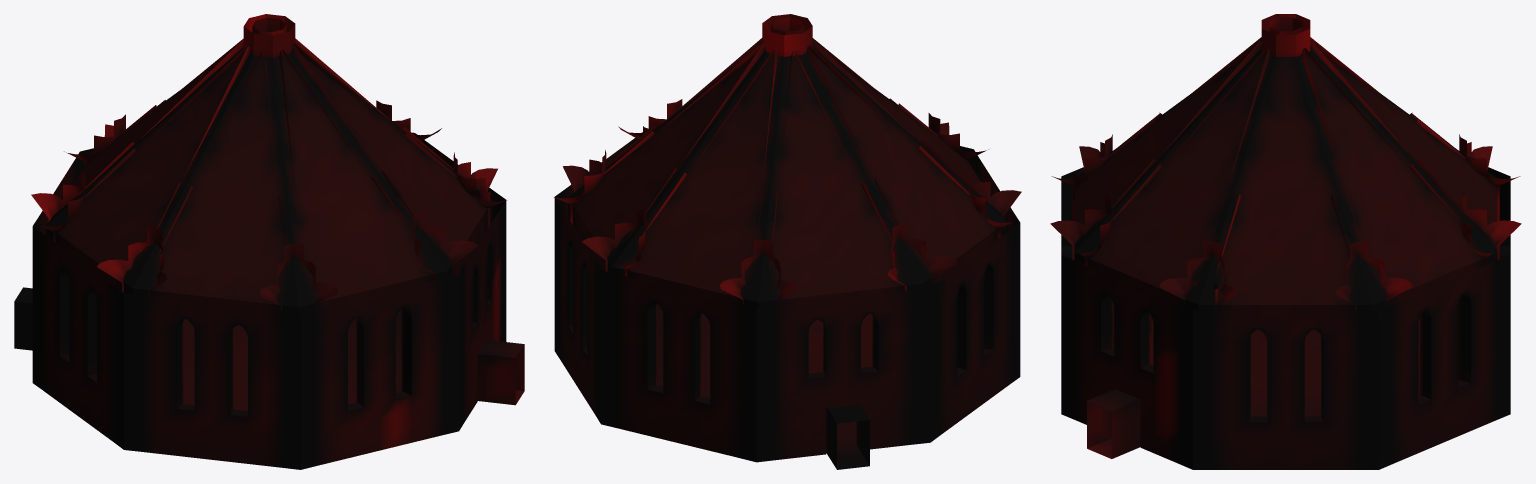
Rendered from castle_sanctum.obj.
The picture shows the model from 3 angles, left to right: view 1: azimuth 30°, elevation 25°; view 2: azimuth 150°, elevation 25°; view 3: azimuth 270°, elevation 25°; orthographic projection. The views are drawn at different scales.
Parts seen in each view (by area): view 1: SanctumRoof, SanctumOuterWall, SanctumSupports, SanctumBrickWall, SanctumFloor, SanctumWindows; view 2: SanctumRoof, SanctumOuterWall, SanctumSupports, SanctumBrickWall, SanctumFloor; view 3: SanctumRoof, SanctumOuterWall, SanctumSupports, SanctumBrickWall, SanctumFloor, SanctumWindows.
Boxes of the visible parts, bbox=[...] form: SanctumRoof: bbox=[46, 47, 492, 306]; SanctumOuterWall: bbox=[32, 132, 506, 469]; SanctumSupports: bbox=[31, 14, 506, 310]; SanctumBrickWall: bbox=[14, 199, 524, 416]; SanctumFloor: bbox=[183, 309, 524, 411]; SanctumWindows: bbox=[182, 308, 403, 409]; SanctumRoof: bbox=[568, 46, 1006, 302]; SanctumOuterWall: bbox=[554, 132, 1020, 462]; SanctumSupports: bbox=[554, 14, 1021, 305]; SanctumBrickWall: bbox=[568, 196, 1006, 469]; SanctumFloor: bbox=[657, 304, 872, 469]; SanctumRoof: bbox=[1074, 48, 1497, 304]; SanctumOuterWall: bbox=[1061, 167, 1510, 469]; SanctumSupports: bbox=[1050, 14, 1521, 310]; SanctumBrickWall: bbox=[1061, 235, 1510, 458]; SanctumFloor: bbox=[1087, 317, 1457, 458]; SanctumWindows: bbox=[1111, 300, 1460, 396].
Bounding box in the file's own units: 26.81 × 22 × 26.81.
